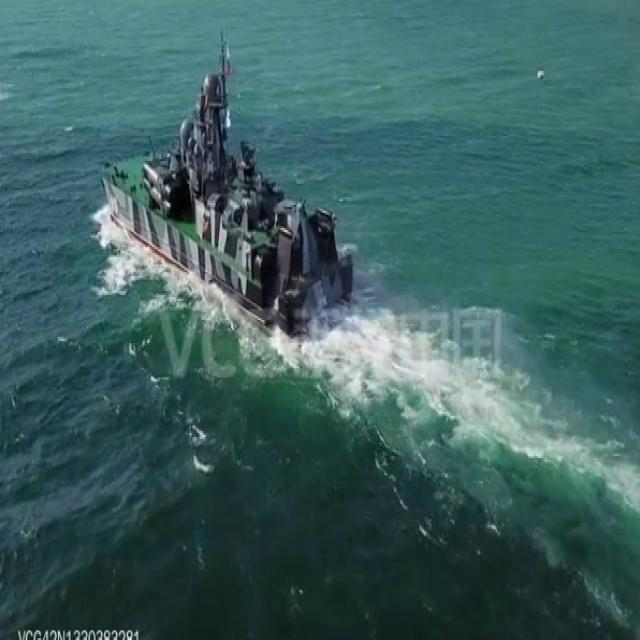houseboat: (100, 68, 361, 325)
